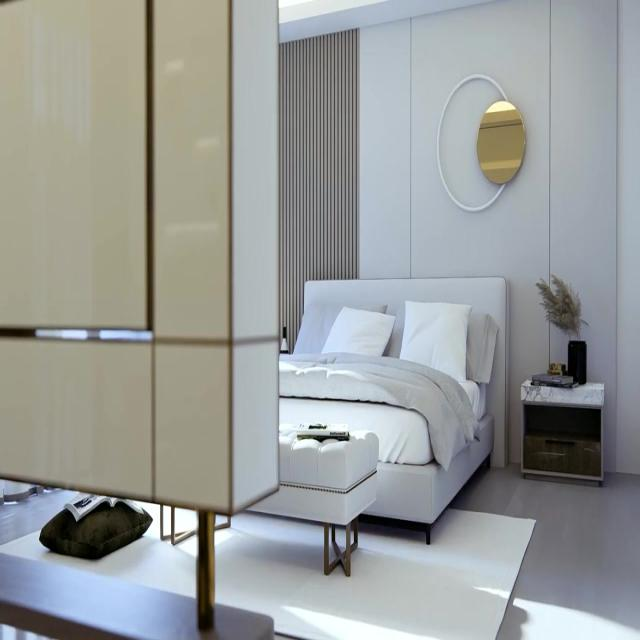obstacle: (277, 274, 508, 546), (520, 378, 604, 486)
